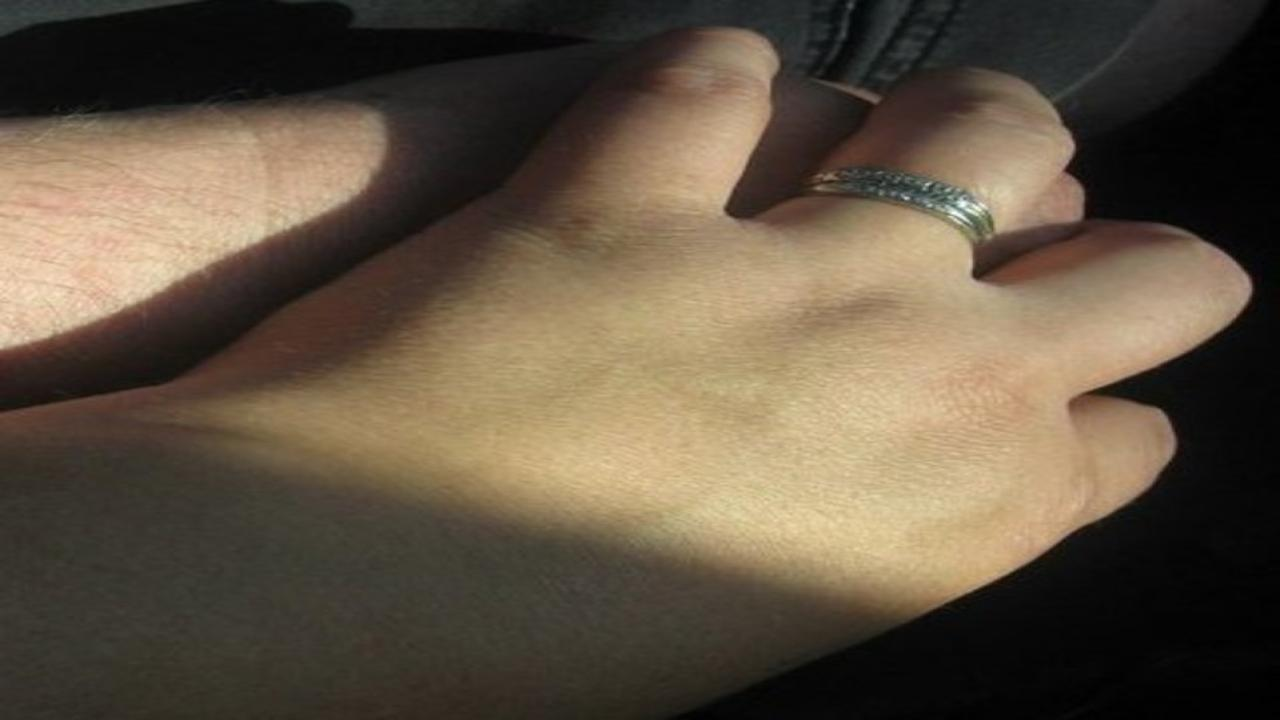ring: (795, 163, 997, 246)
